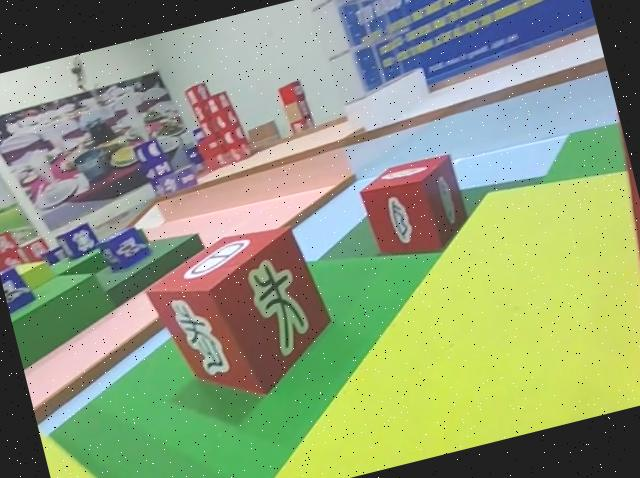R2 Fake: (134, 213, 345, 419)
R2 Real: (352, 148, 477, 270)
